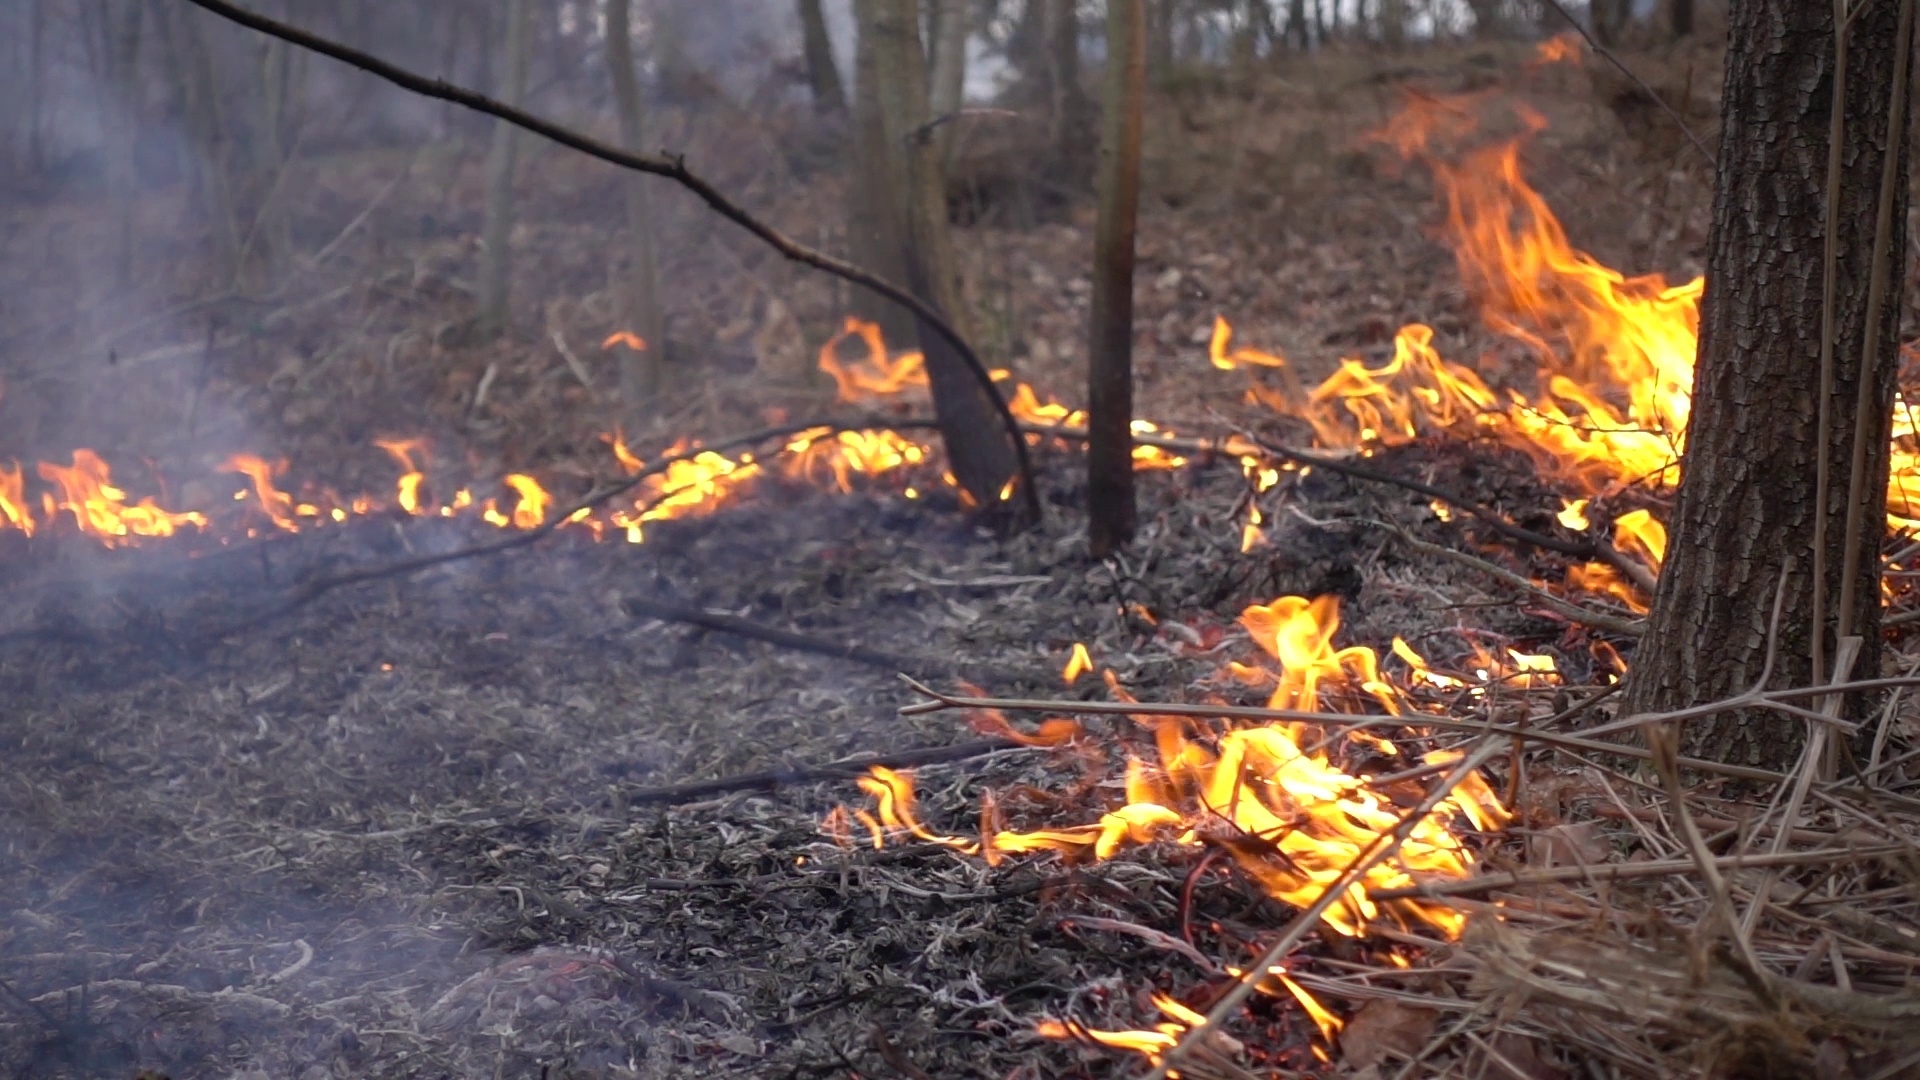fire: (980, 592, 1506, 947), (1222, 179, 1697, 558), (3, 440, 291, 545), (600, 426, 760, 539), (393, 440, 543, 529), (818, 318, 926, 400), (786, 425, 907, 492), (1888, 393, 1920, 533), (1130, 415, 1166, 469)
